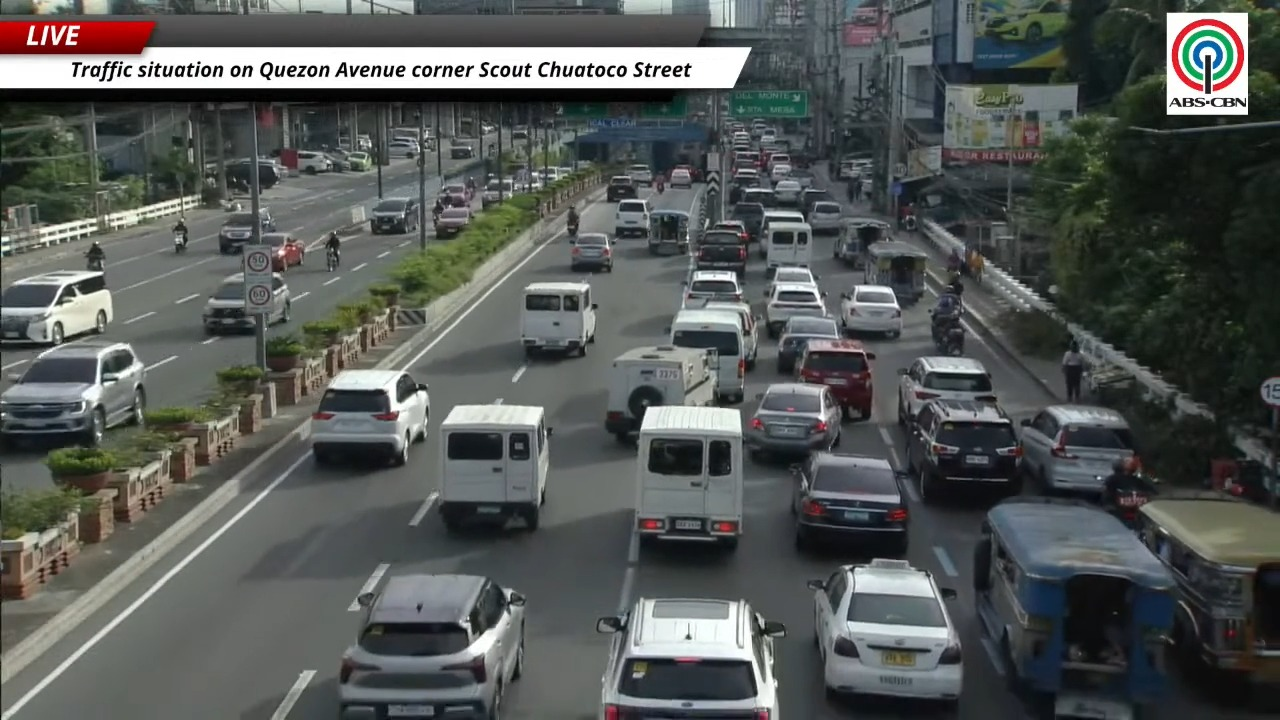car: (337, 575, 525, 719), (596, 598, 785, 719), (808, 558, 962, 706), (0, 339, 146, 446), (791, 452, 908, 555), (905, 399, 1021, 502), (310, 369, 430, 465), (1020, 404, 1136, 493), (0, 270, 113, 345), (744, 382, 840, 460), (897, 356, 997, 427), (796, 340, 875, 419), (776, 316, 841, 373), (982, 0, 1068, 43), (765, 283, 827, 337), (202, 273, 255, 334), (840, 285, 902, 337), (695, 230, 746, 275), (683, 270, 742, 307), (371, 197, 420, 234), (262, 232, 305, 272), (570, 233, 615, 271), (763, 266, 817, 297), (614, 198, 650, 237), (219, 212, 253, 253), (730, 202, 764, 239), (434, 206, 472, 238), (806, 201, 842, 234), (728, 170, 760, 203), (481, 178, 513, 208), (710, 220, 749, 244), (801, 188, 837, 213), (226, 159, 253, 190), (773, 177, 801, 206), (297, 152, 332, 174), (439, 183, 472, 206), (607, 176, 637, 201), (741, 187, 776, 207), (387, 139, 421, 158), (627, 164, 653, 186), (449, 138, 476, 158), (732, 167, 760, 186), (326, 149, 349, 171), (789, 167, 813, 188), (767, 153, 792, 173), (346, 151, 372, 170), (672, 164, 701, 181), (669, 168, 693, 187), (769, 163, 790, 184), (760, 128, 776, 144), (511, 127, 529, 140)
motorcycle: (1108, 489, 1150, 528), (936, 326, 964, 356), (173, 232, 187, 253), (86, 255, 104, 271), (326, 248, 338, 271), (903, 214, 917, 231), (566, 220, 578, 237), (432, 211, 441, 225), (655, 183, 665, 194)
